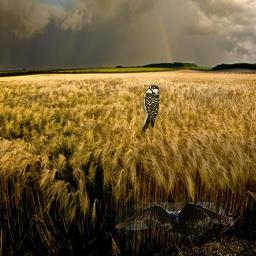Crow: (115, 202, 234, 243)
Woodpecker: (140, 84, 159, 135)
